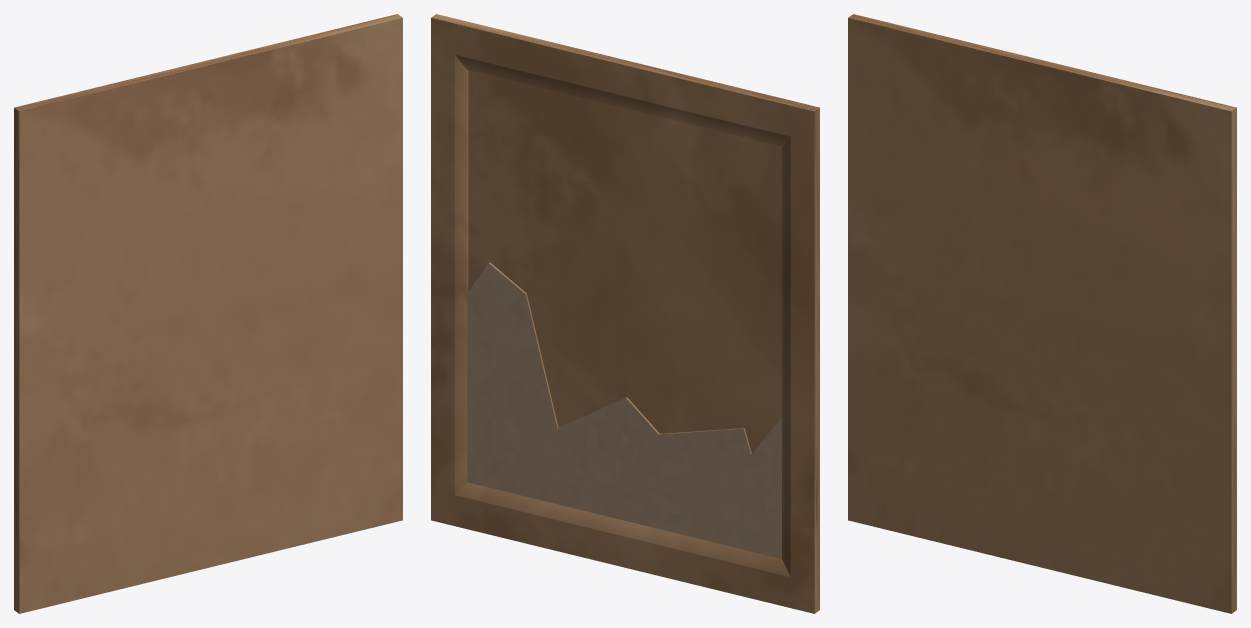
File: broken_mirror.fbx
The picture shows the model from 3 angles, left to right: view 1: azimuth 30°, elevation 25°; view 2: azimuth 150°, elevation 25°; view 3: azimuth 330°, elevation 25°; orthographic projection.
Parts seen in each view (by area): view 1: Cube.030; view 2: Cube.030; view 3: Cube.030.
Boxes of the visible parts, x1=… form: Cube.030: x1=14, y1=14, x2=402, y2=613; Cube.030: x1=431, y1=14, x2=819, y2=613; Cube.030: x1=848, y1=14, x2=1236, y2=613.
Bounding box in the file's own units: 2.7 × 3.38 × 0.065.
